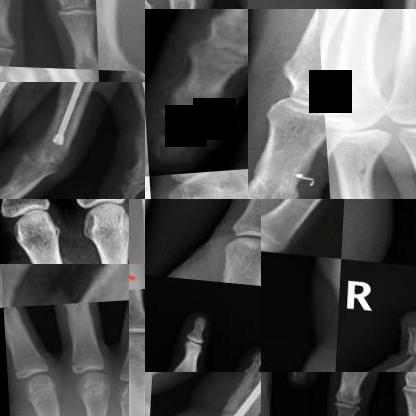fracture: (38, 82, 97, 154), (0, 82, 35, 142), (217, 372, 261, 415), (337, 158, 379, 198), (248, 173, 302, 198), (397, 315, 415, 366), (127, 82, 144, 132), (0, 64, 41, 82), (248, 0, 320, 9)
